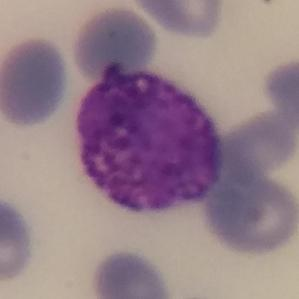Basophil: (66, 68, 220, 227)
RBC: (202, 167, 299, 258), (68, 3, 160, 86), (0, 34, 72, 130), (225, 111, 299, 174), (88, 246, 175, 299), (128, 0, 228, 41), (0, 194, 37, 284), (260, 57, 299, 126)
